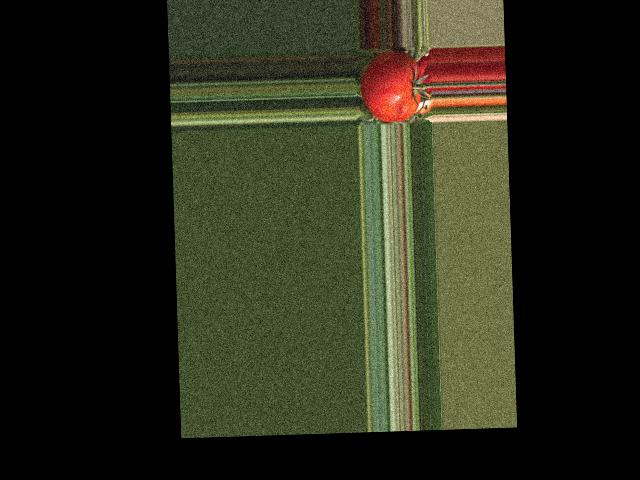tomato: (359, 50, 423, 123)
